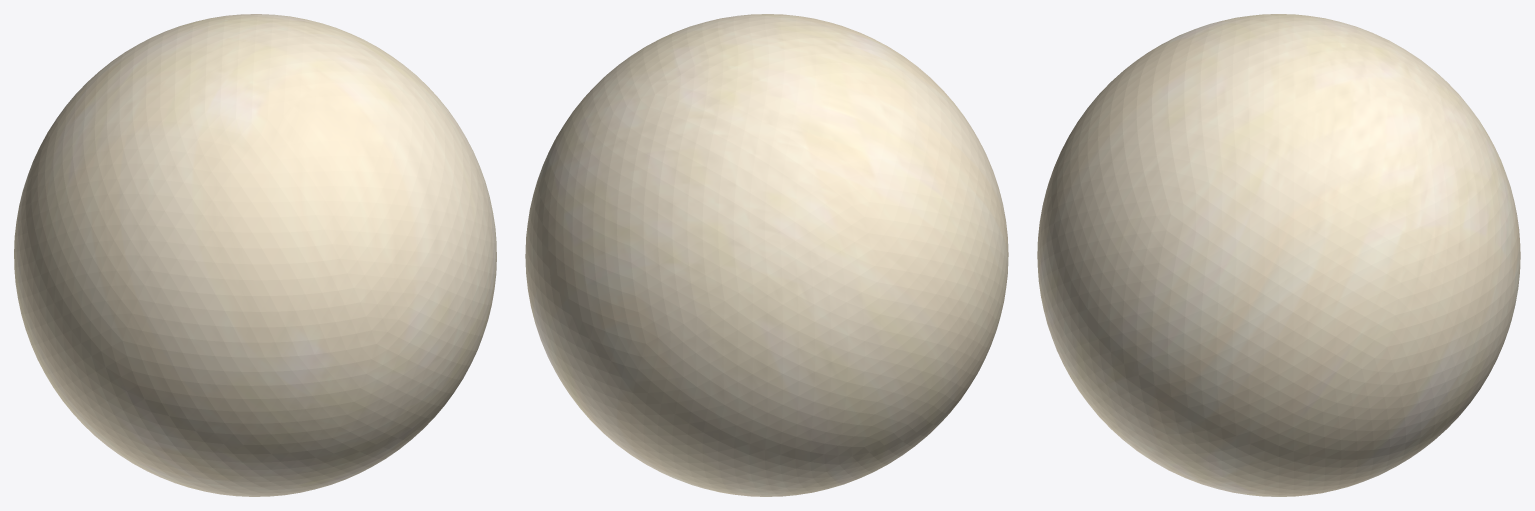
Rendered from ball.obj.
The picture shows the model from 3 angles, left to right: view 1: azimuth 30°, elevation 25°; view 2: azimuth 150°, elevation 25°; view 3: azimuth 270°, elevation 25°; orthographic projection.
Visible parts, largest first — view 1: Object.1; view 2: Object.1; view 3: Object.1.
Boxes of the visible parts, x1=… form: Object.1: x1=14, y1=14, x2=496, y2=496; Object.1: x1=525, y1=14, x2=1008, y2=496; Object.1: x1=1037, y1=14, x2=1520, y2=496.
Bounding box in the file's own units: 40 × 40 × 40.
Materials: 1 (1 with a texture image).
